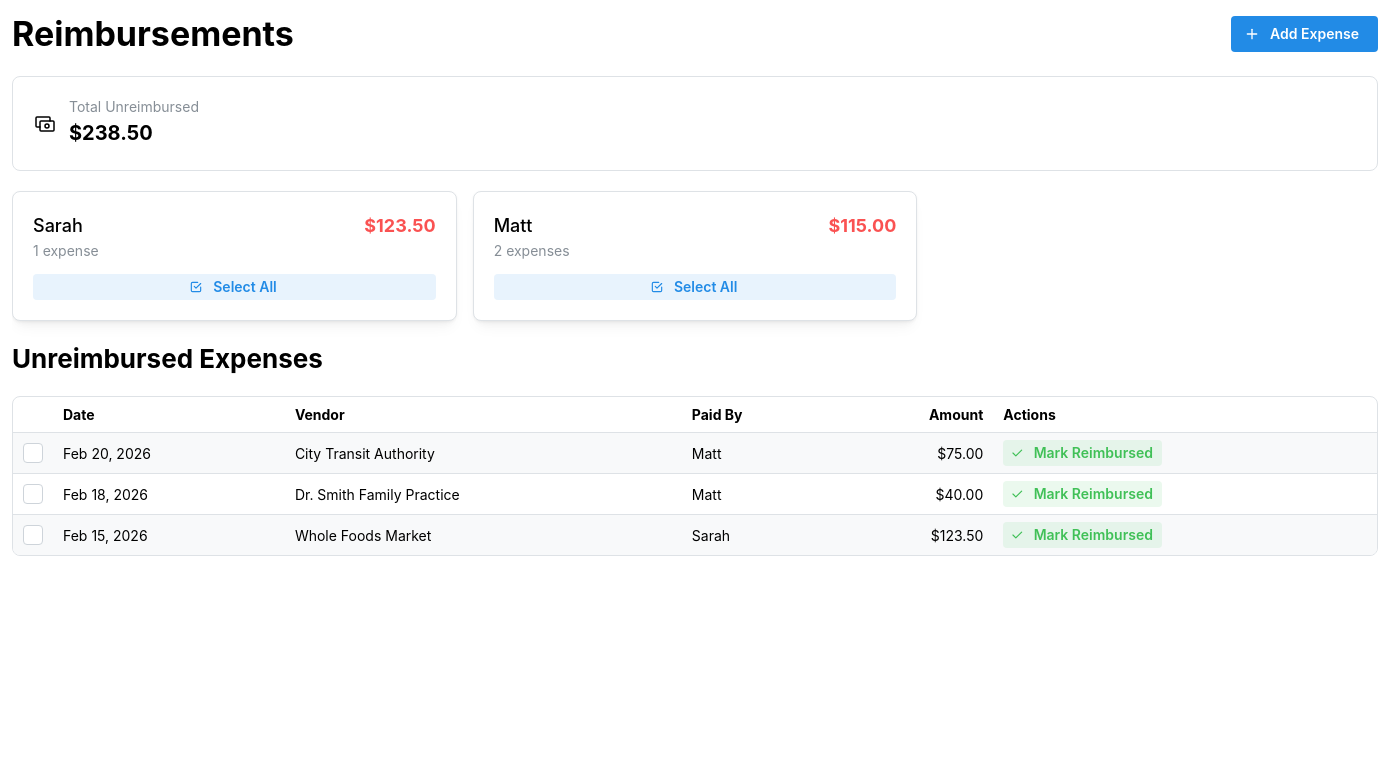
Test: Reimbursements Page › Mark as Reimbursed action › shows error message when reimbursement fails
The image size is (1378, 780).
Click the button with aria-label "Mark City Transit Authority expense as reimbursed".
click(1083, 453)  # box [1003,440,1162,466]
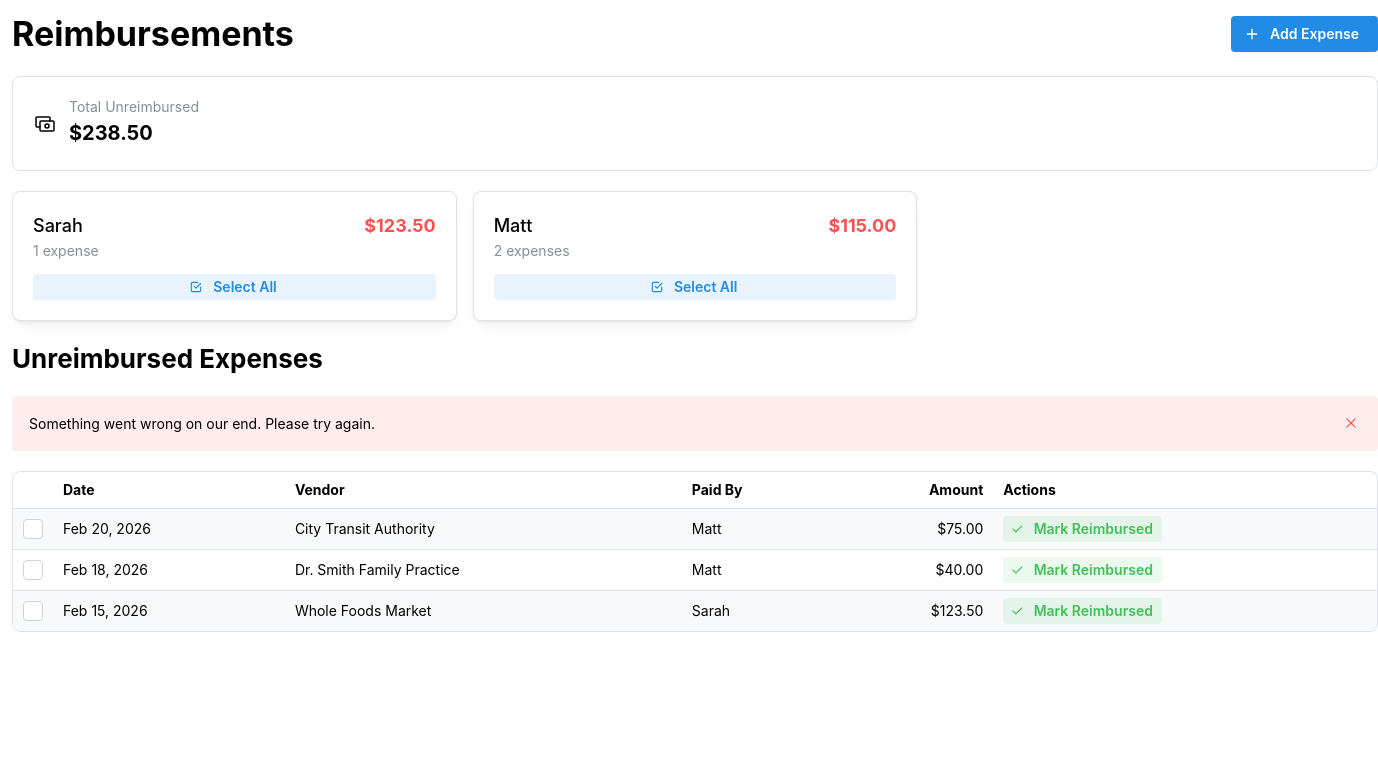
Check: the message "Something went wrong on our end. Please try again." is shown, box [12,396,1377,451]
Check: the message reads "Something went wrong on our end. Please try again.", box [29,415,375,432]
